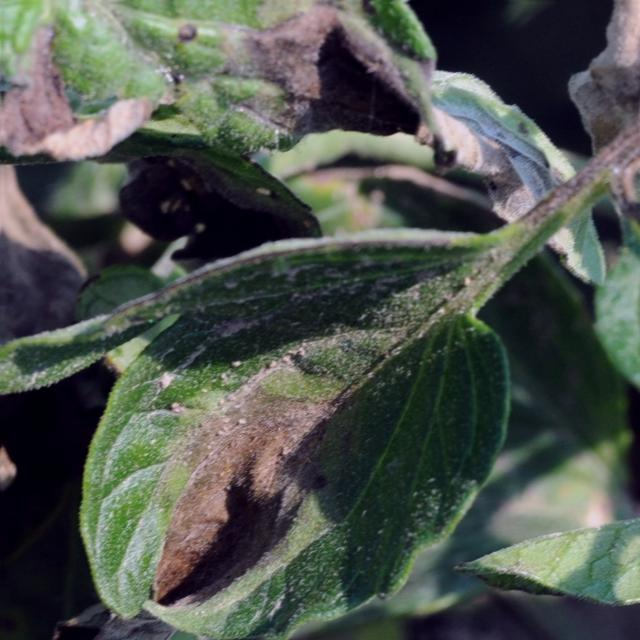Tomato leaf late blight: (41, 221, 517, 640), (0, 0, 421, 193)
